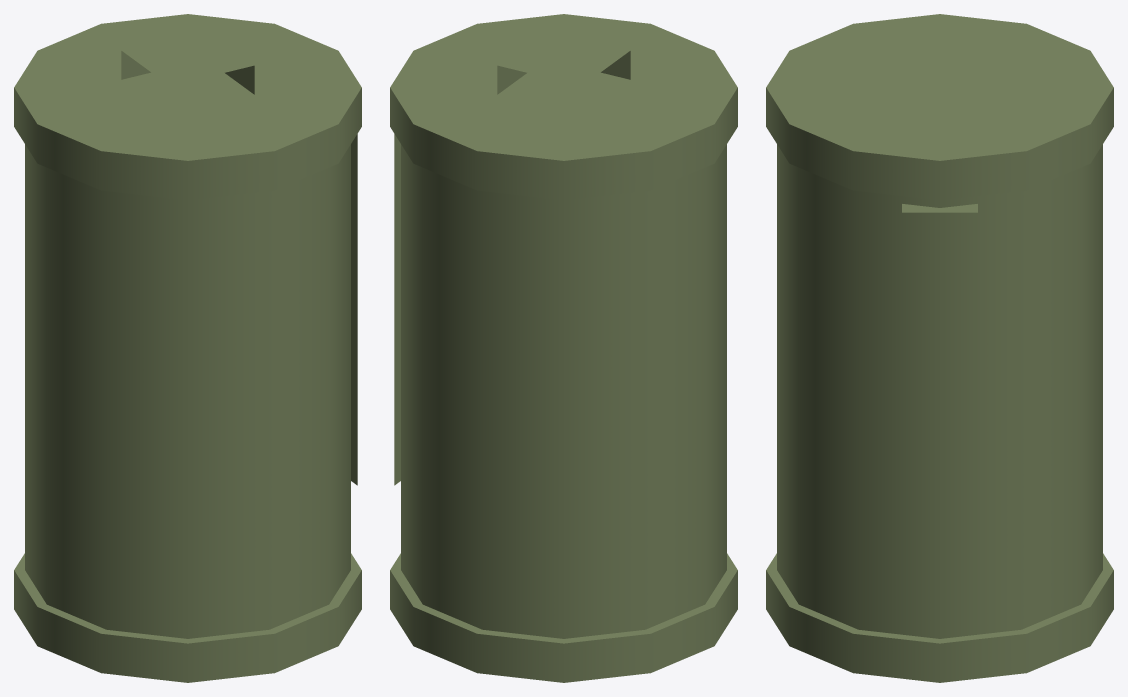
The model's file is he_grenade.glb.
The picture shows the model from 3 angles, left to right: view 1: azimuth 30°, elevation 25°; view 2: azimuth 150°, elevation 25°; view 3: azimuth 270°, elevation 25°; orthographic projection.
Parts seen in each view (by area): view 1: GrenadeMesh; view 2: GrenadeMesh; view 3: GrenadeMesh.
Part boxes in pixels (x1=…): GrenadeMesh: x1=14, y1=14, x2=361, y2=682; GrenadeMesh: x1=390, y1=14, x2=737, y2=682; GrenadeMesh: x1=766, y1=14, x2=1113, y2=682.
Size of the model in its own units: 0.064 by 0.112 by 0.064.
